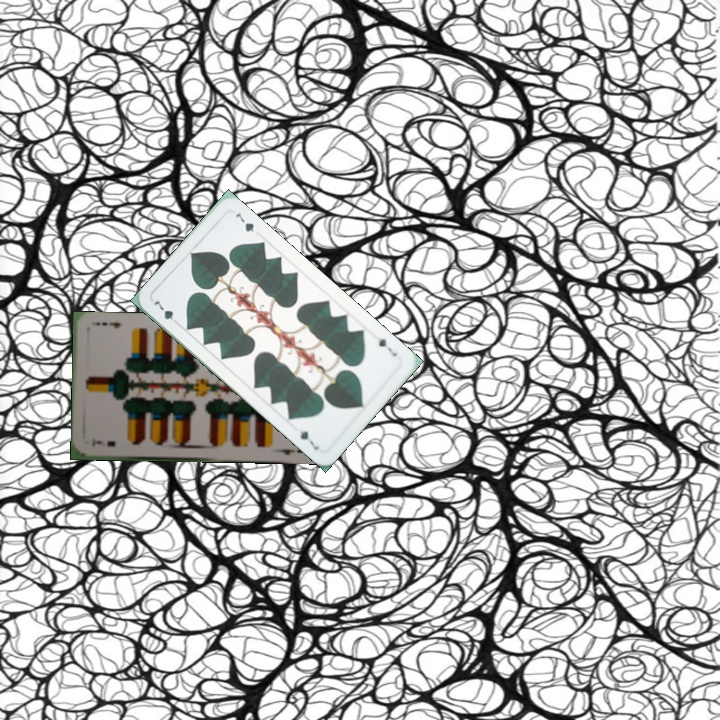E7: (88, 436, 118, 450)
G7: (150, 295, 182, 327), (374, 334, 400, 359)
